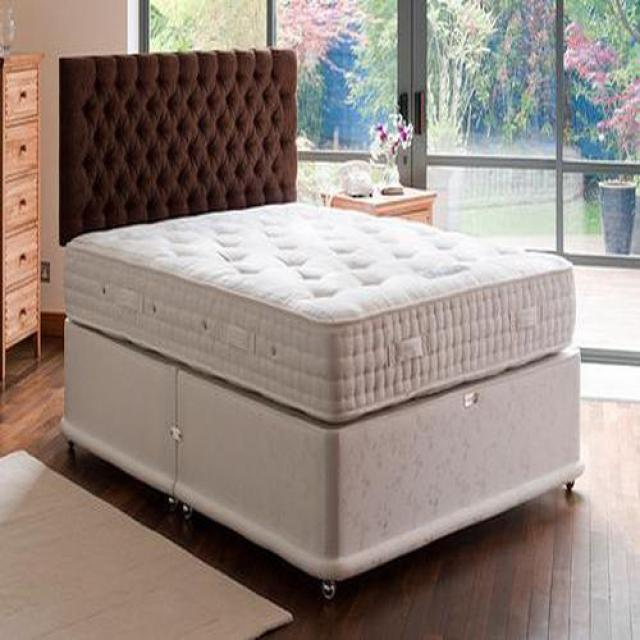bed: (59, 50, 584, 599)
